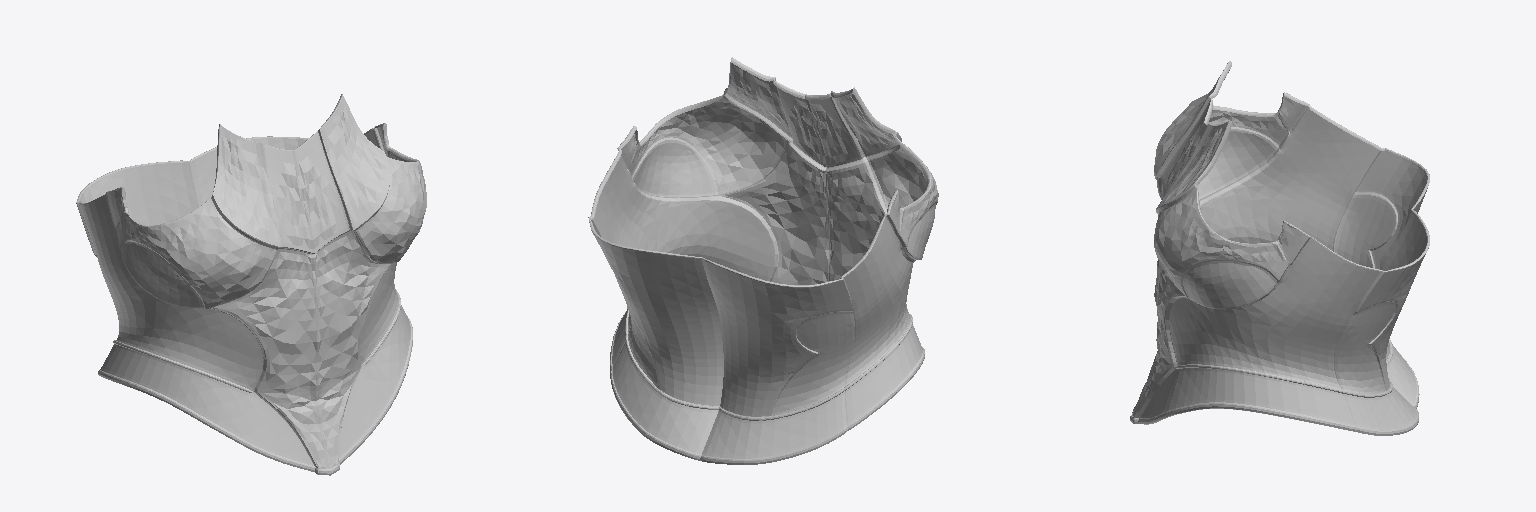
The model's file is armorChest.obj.
The picture shows the model from 3 angles: view 1: azimuth 30°, elevation 25°; view 2: azimuth 150°, elevation 25°; view 3: azimuth 270°, elevation 25°; orthographic projection.
Bounding box in the file's own units: 28.65 × 32.12 × 26.46.